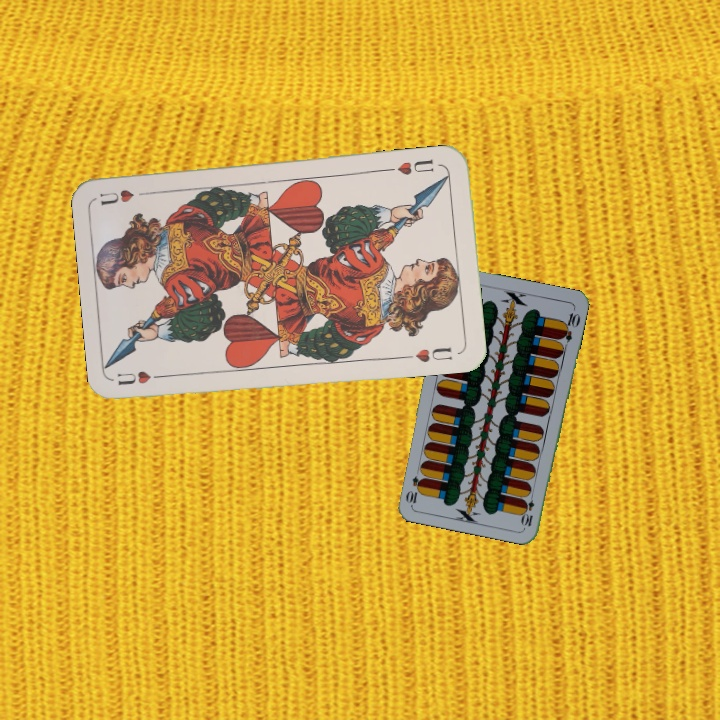E10: (519, 488, 537, 529)
HU: (113, 366, 171, 388), (393, 155, 437, 178)
